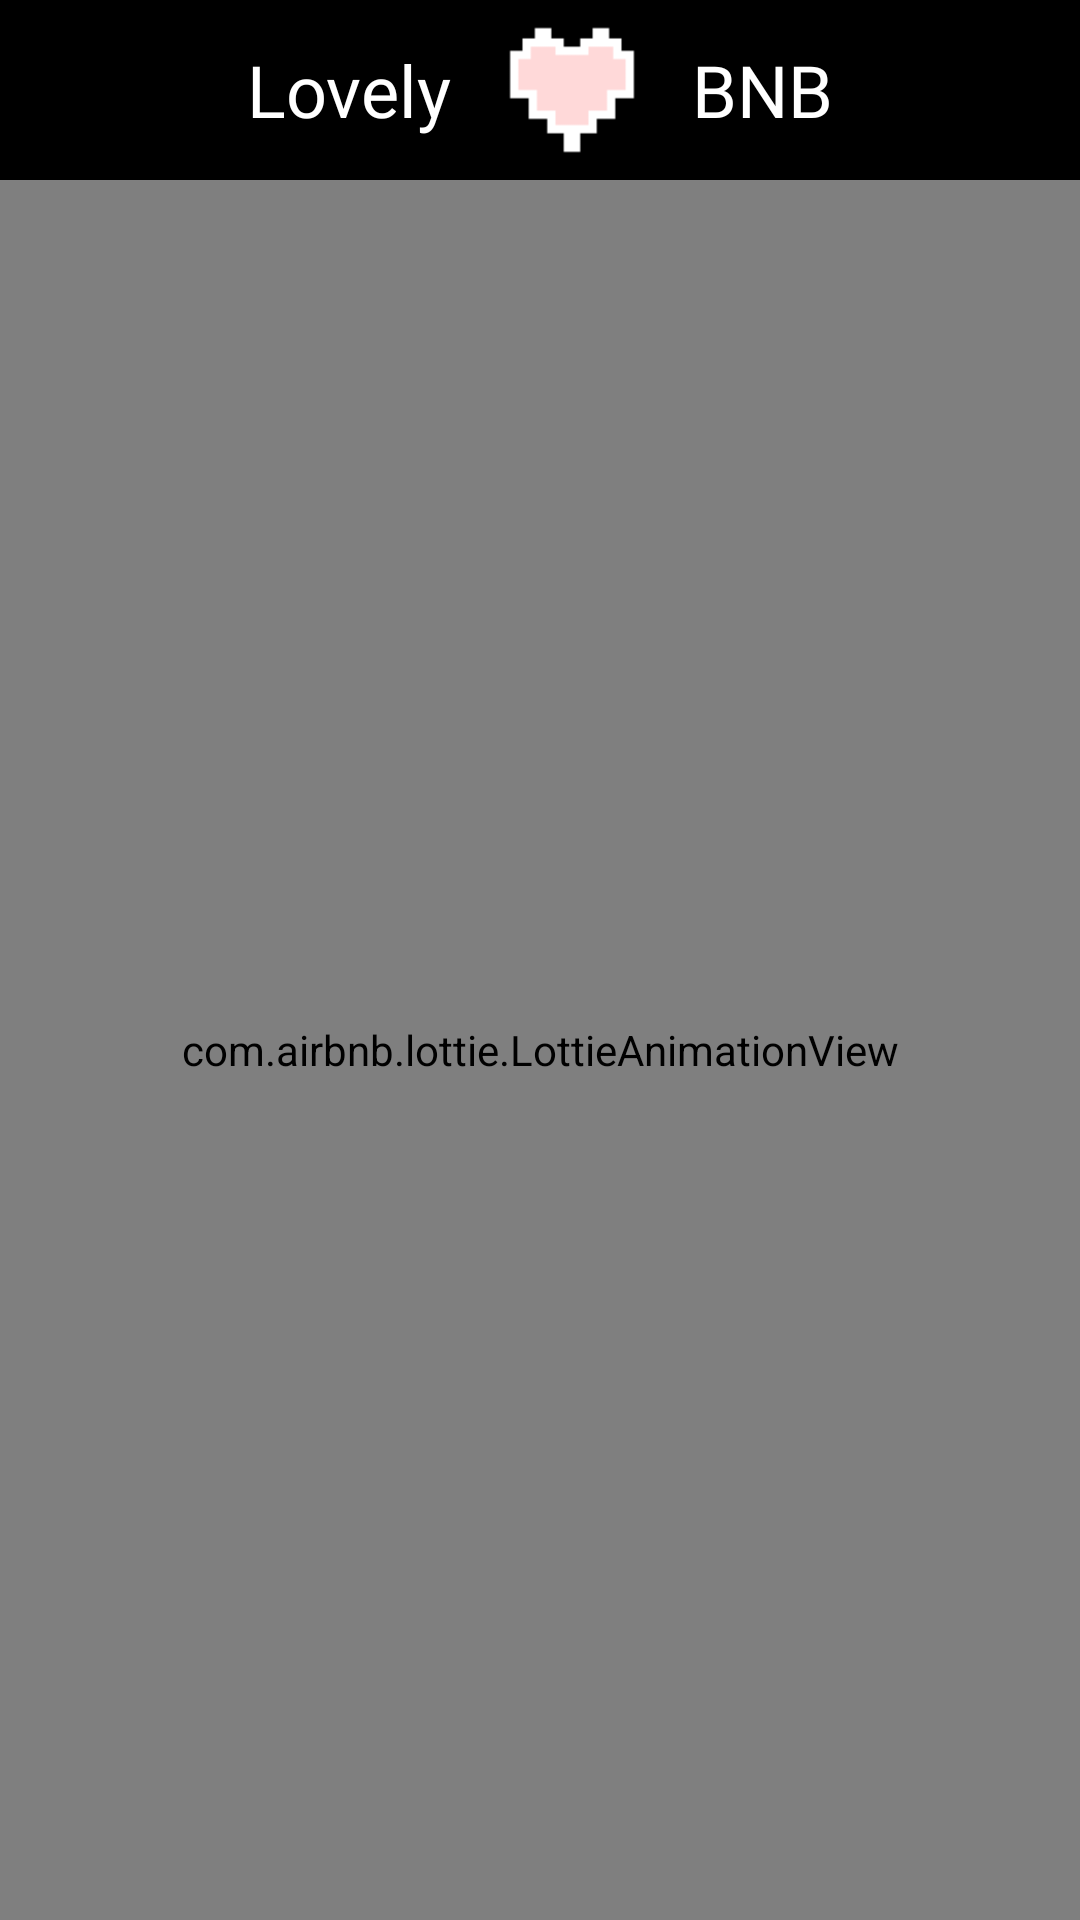

Locate icon controls on the screen. Image size 1080*1920, boxes as bbox=(x1, y1, x2, y2).
heart: bbox=(509, 27, 635, 153)
